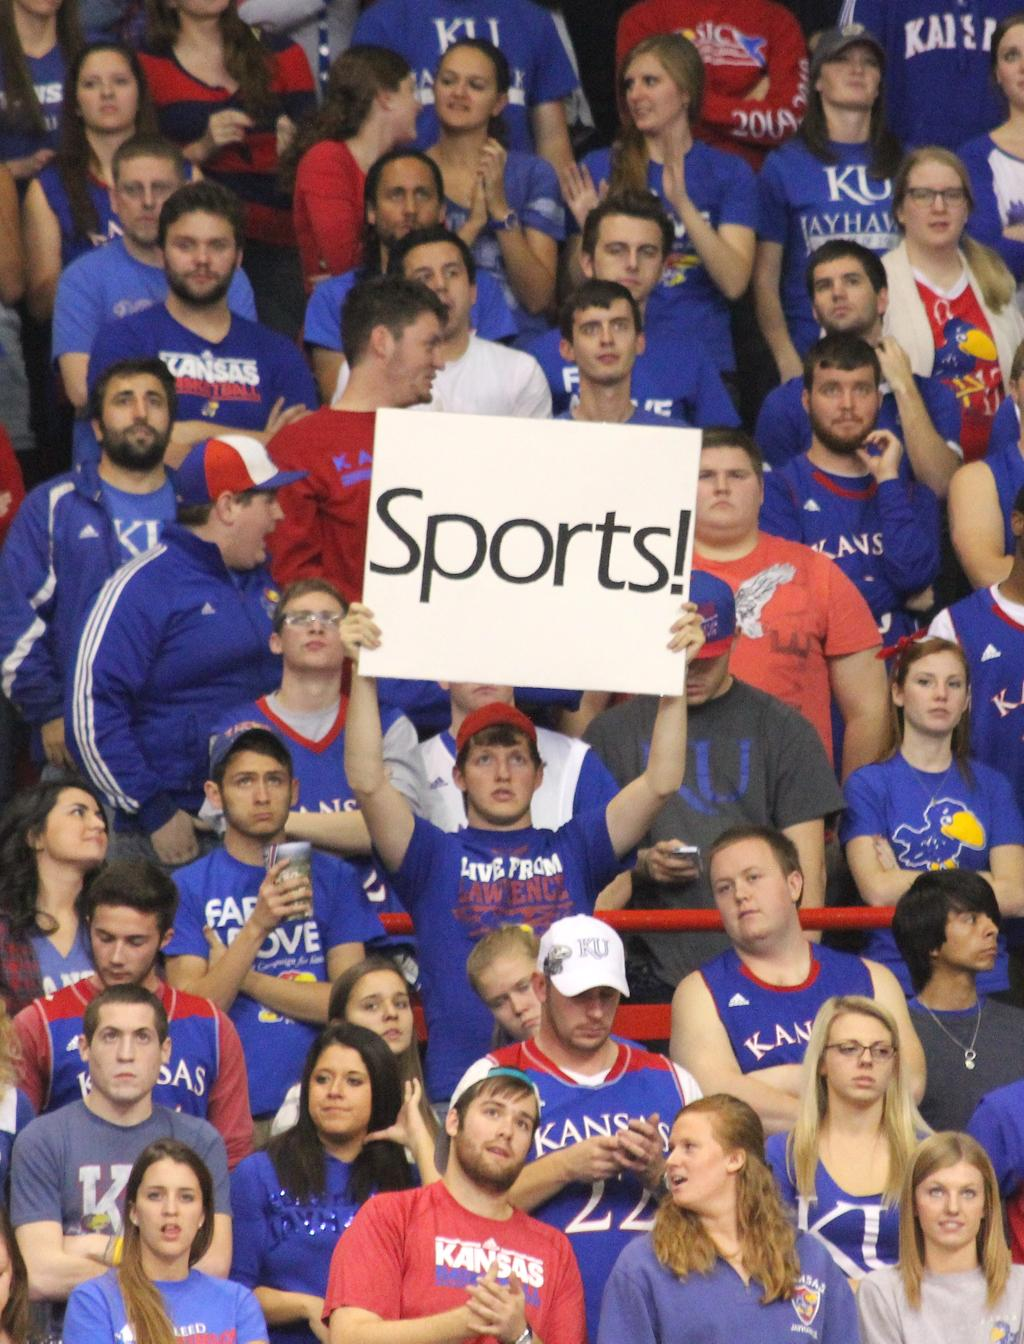face: (458, 1087, 534, 1180), (710, 856, 785, 940), (546, 965, 618, 1049), (90, 1016, 158, 1100), (223, 752, 289, 836), (478, 963, 545, 1045), (688, 457, 759, 532), (468, 736, 534, 817), (342, 983, 411, 1059), (595, 223, 661, 301), (165, 222, 234, 296), (92, 916, 158, 993), (658, 632, 725, 706), (105, 382, 169, 459), (827, 1028, 893, 1102), (810, 368, 876, 442), (405, 254, 468, 331), (667, 1124, 725, 1206), (310, 1052, 370, 1131), (140, 1173, 196, 1255), (117, 164, 178, 240), (917, 1174, 983, 1243), (940, 896, 997, 973), (378, 173, 437, 246), (388, 324, 443, 402), (45, 793, 107, 861), (235, 476, 282, 562), (284, 600, 344, 666), (575, 310, 632, 378), (905, 662, 961, 732), (814, 265, 876, 328), (907, 175, 962, 244), (436, 56, 489, 125), (80, 62, 136, 128), (825, 42, 878, 106), (625, 64, 677, 128), (449, 656, 510, 708), (378, 76, 421, 140), (999, 37, 1024, 100), (0, 1243, 12, 1309)
